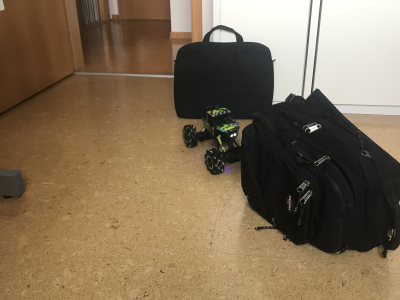remote control car: (178, 101, 256, 175)
